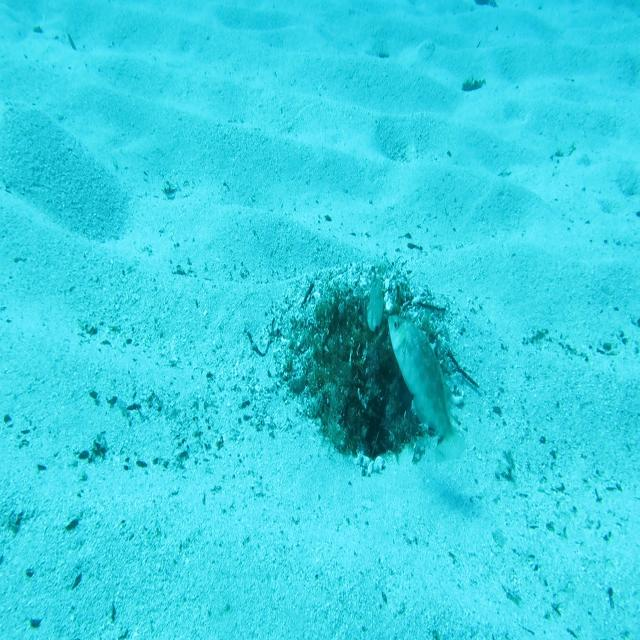GB: (387, 313, 468, 462)
core_nest: (341, 309, 391, 362)
female: (360, 268, 385, 336)
nest: (262, 244, 469, 488)
vegetation: (460, 74, 488, 93), (473, 0, 499, 12)
